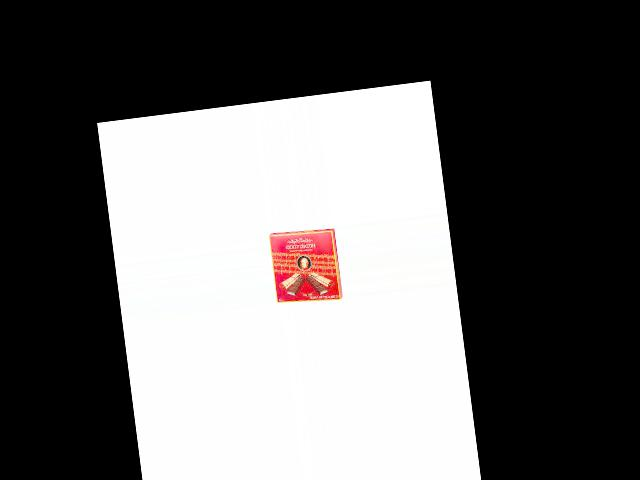chocolate: (266, 226, 344, 309)
